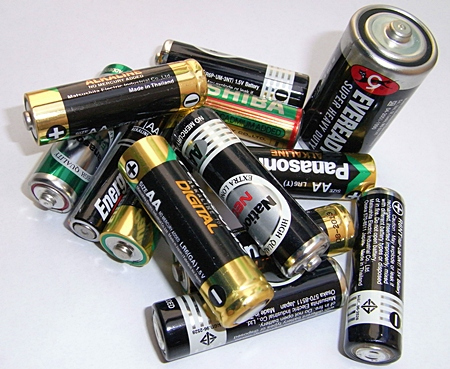Battery: (115, 130, 275, 332), (169, 103, 332, 280), (296, 2, 442, 165), (22, 56, 212, 148), (338, 185, 409, 367), (150, 37, 312, 111)
